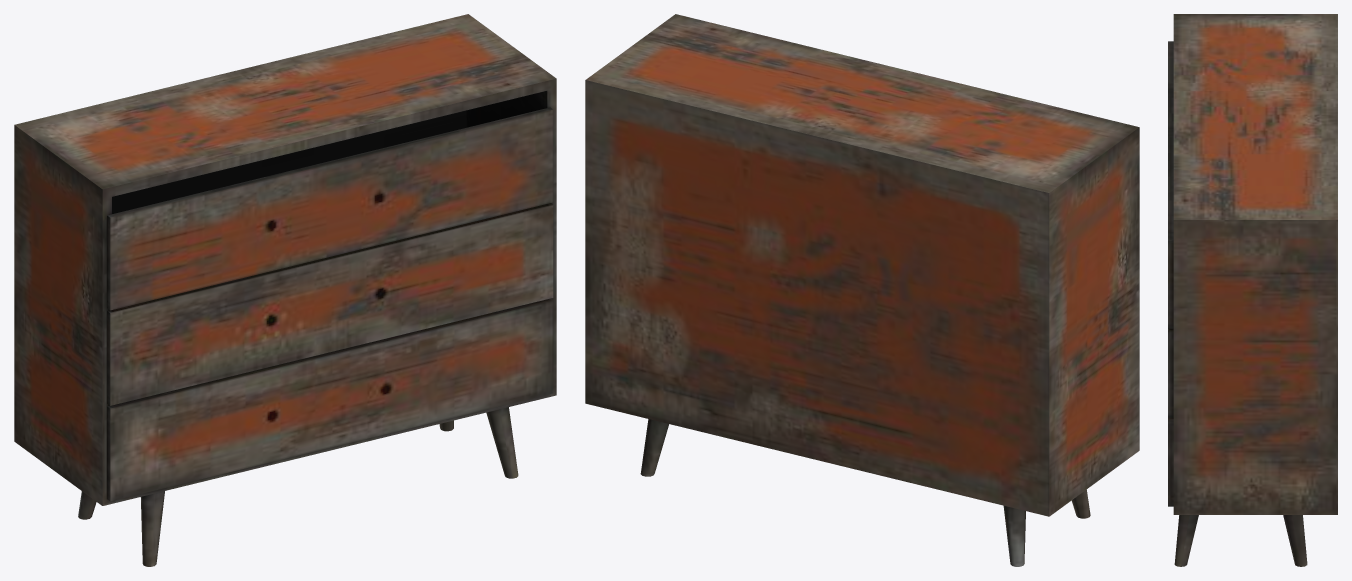
Rendered from chest_lod.obj.
3 renders of one model, left to right at view 1: azimuth 30°, elevation 25°; view 2: azimuth 150°, elevation 25°; view 3: azimuth 270°, elevation 25°, orthographic. The views are drawn at different scales.
Visible parts, largest first — view 1: __; view 2: __; view 3: __.
Part boxes in pixels (x1,y1,x2,y2): __: (14, 14, 556, 566); __: (585, 14, 1139, 566); __: (1168, 14, 1337, 566).
Size of the model in its own units: 47.24 by 38.77 by 16.46.
